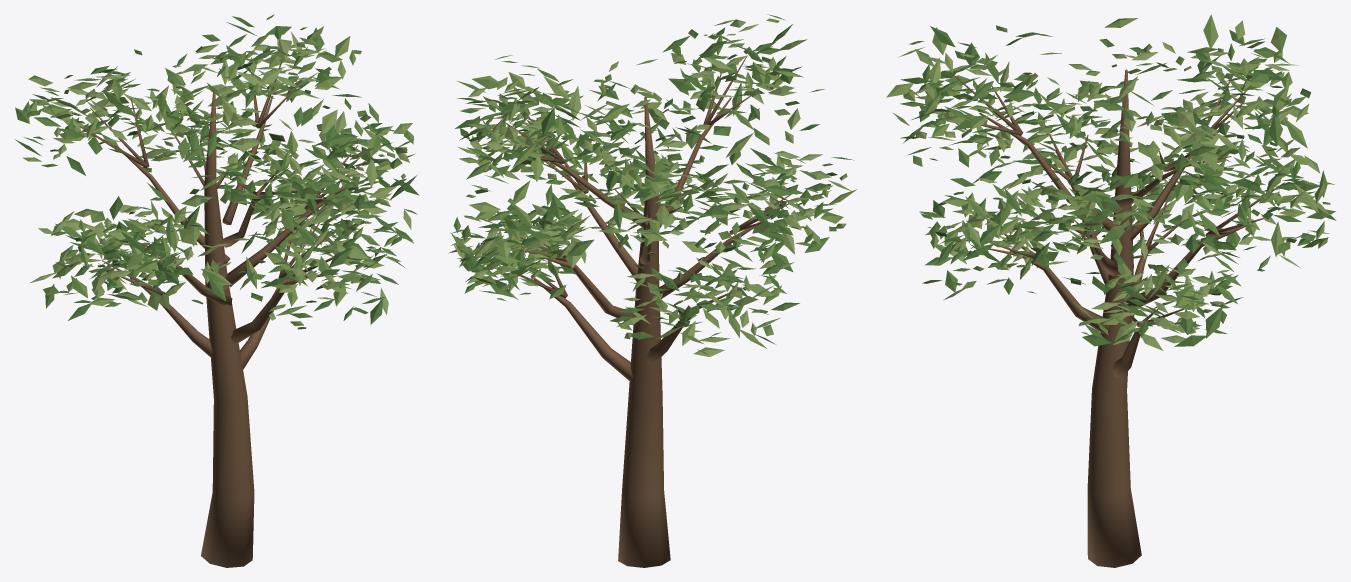
Rendered from old-town-park-tree-upright.glb.
3 views of the same model, side by side, from view 1: azimuth 30°, elevation 25°; view 2: azimuth 150°, elevation 25°; view 3: azimuth 270°, elevation 25° (orthographic). The views are drawn at different scales.
Visible parts, largest first — view 1: Folded leaf canopy.001, Trunk and branch structure.001; view 2: Folded leaf canopy.001, Trunk and branch structure.001; view 3: Folded leaf canopy.001, Trunk and branch structure.001.
Boxes of the visible parts, <box> form: Folded leaf canopy.001: <box>15,14,419,329</box>; Trunk and branch structure.001: <box>80,59,367,567</box>; Folded leaf canopy.001: <box>448,14,857,356</box>; Trunk and branch structure.001: <box>498,55,791,567</box>; Folded leaf canopy.001: <box>886,14,1336,350</box>; Trunk and branch structure.001: <box>948,69,1284,567</box>.
Bounding box in the file's own units: 2.4 × 3.5 × 2.79.
